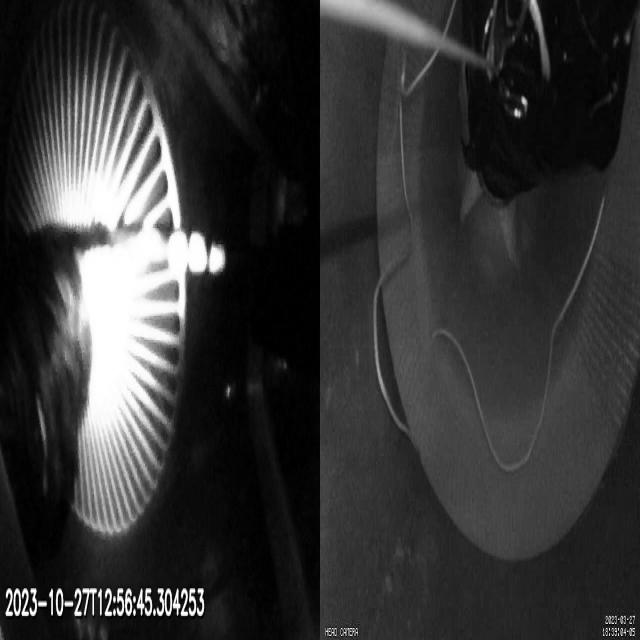white-dots: (168, 230, 226, 282)
